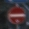No entry: (6, 5, 23, 23)
